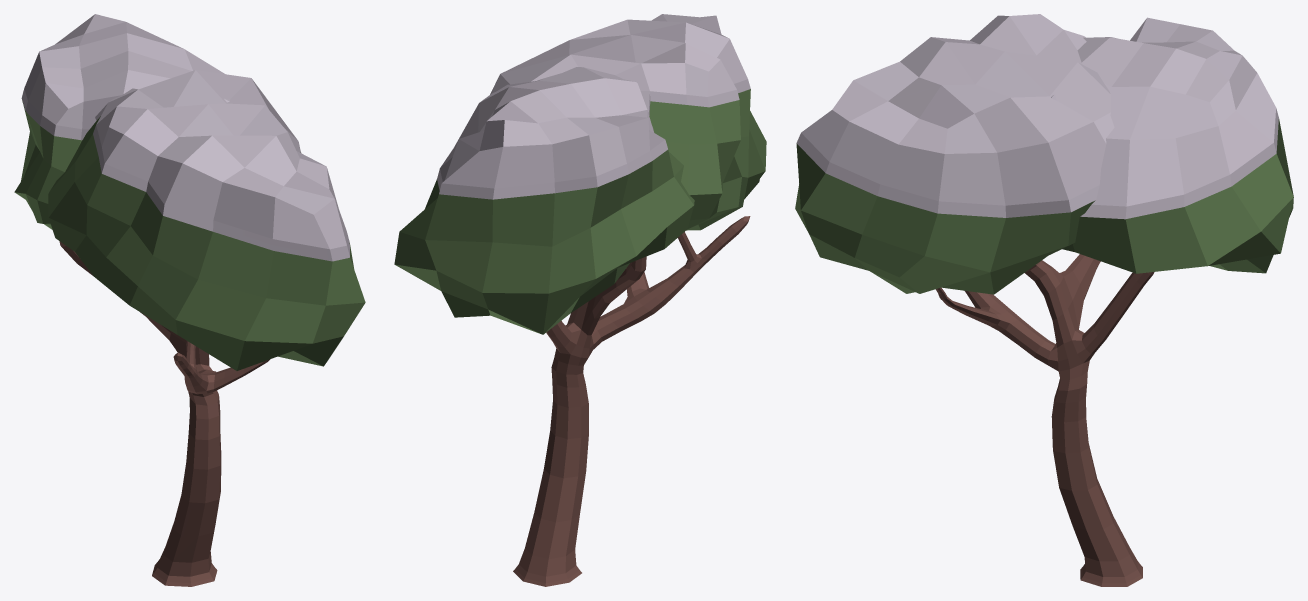
Rendered from commontree_snow_5.glb.
3 views of the same model, side by side, from view 1: azimuth 30°, elevation 25°; view 2: azimuth 150°, elevation 25°; view 3: azimuth 270°, elevation 25° (orthographic). The views are drawn at different scales.
Visible parts, largest first — view 1: CommonTree_Snow_5; view 2: CommonTree_Snow_5; view 3: CommonTree_Snow_5.
Boxes of the visible parts, x1=… form: CommonTree_Snow_5: x1=14, y1=14, x2=365, y2=586; CommonTree_Snow_5: x1=394, y1=14, x2=766, y2=586; CommonTree_Snow_5: x1=795, y1=14, x2=1293, y2=586.
Size of the model in its own units: 1.29 by 2.57 by 2.25.
